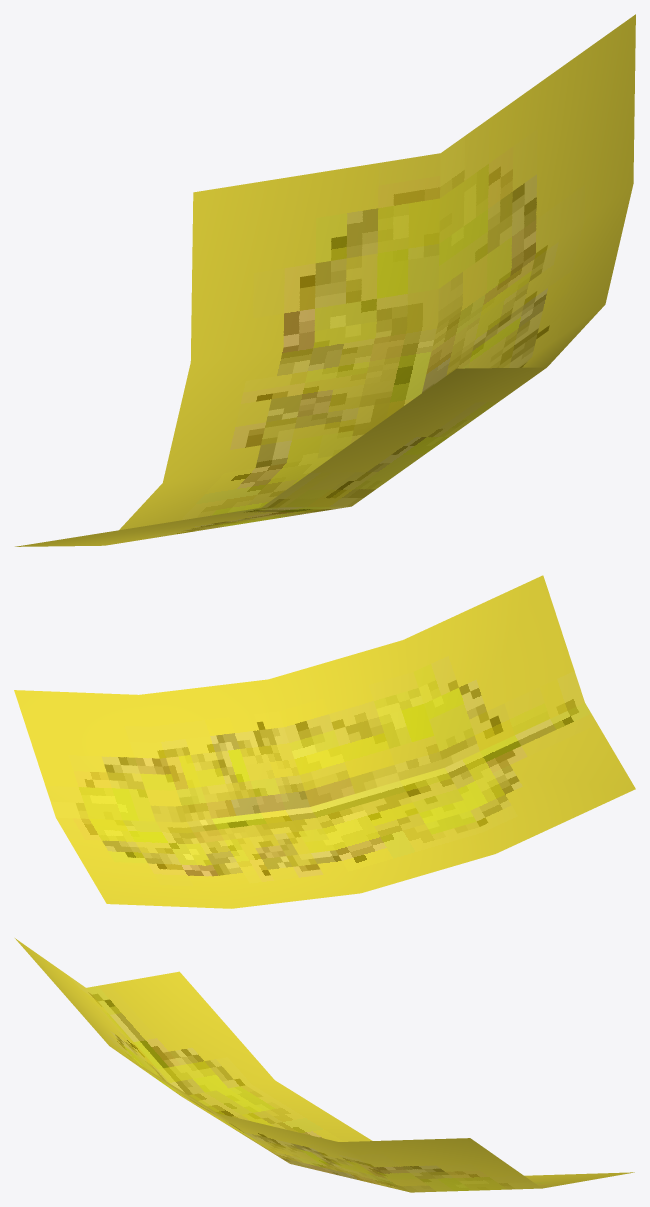
The model's file is cap_feather_ylw.dae.
3 views of the same model, one above another, from view 1: azimuth 30°, elevation 25°; view 2: azimuth 150°, elevation 25°; view 3: azimuth 270°, elevation 25° (orthographic). The views are drawn at different scales.
Visible parts, largest first — view 1: cap_feather_ylw; view 2: cap_feather_ylw; view 3: cap_feather_ylw.
Boxes of the visible parts, left/top/right/bottom form: cap_feather_ylw: left=15, top=14, right=635, bottom=546; cap_feather_ylw: left=14, top=575, right=635, bottom=908; cap_feather_ylw: left=15, top=938, right=634, bottom=1192.
Bounding box in the file's own units: 12.55 × 4.77 × 13.08.
Materials: 1 (1 with a texture image).
